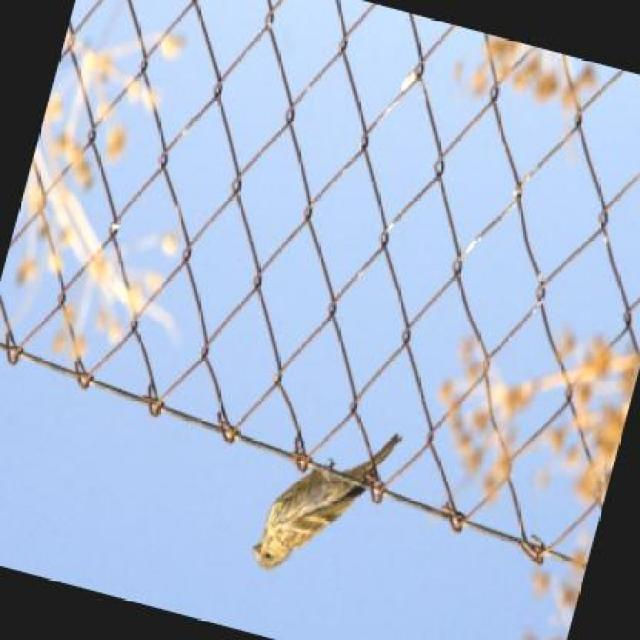Bird: (249, 432, 404, 576)
